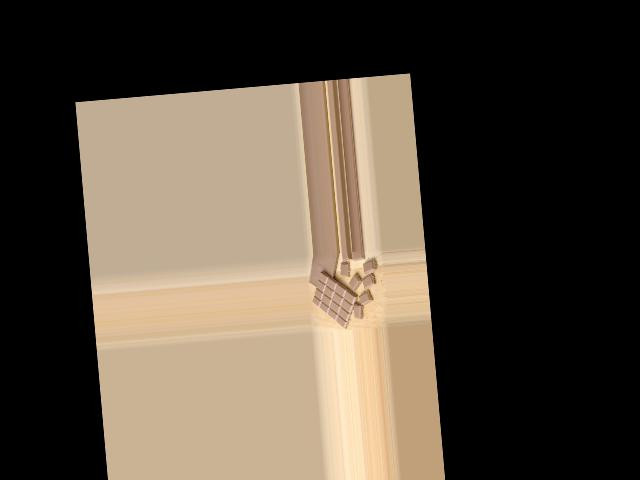chocolate: (310, 268, 362, 329)
